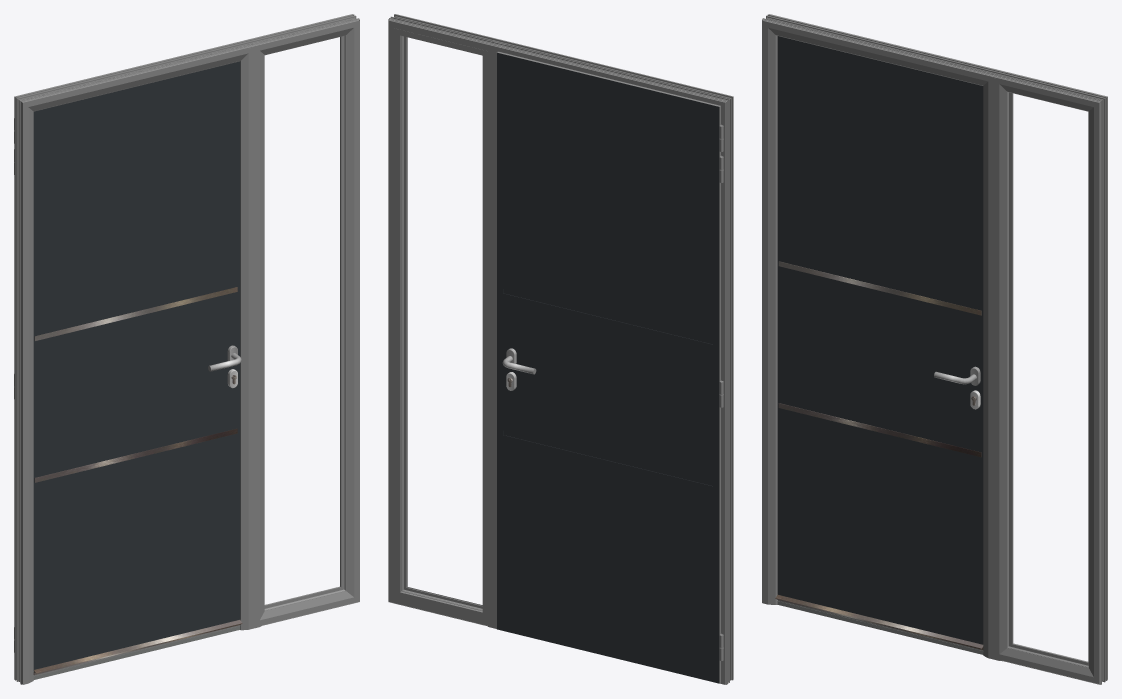
3 views of the same model, side by side, from view 1: azimuth 30°, elevation 25°; view 2: azimuth 150°, elevation 25°; view 3: azimuth 330°, elevation 25° (orthographic).
Visible parts, largest first — view 1: bloco_082, Rectangle002, Line004, Object, Object001, alunox001, Line005, Rectangle005, Rectangle003; view 2: bloco_082, Rectangle002, Rectangle003, Line004, Object001, Rectangle004, Object; view 3: bloco_082, Rectangle002, Line004, Object001, alunox001, Object, Line005, Rectangle003, Rectangle005.
Part boxes in pixels (box(x1,y1,x2,y2)): bloco_082: box(33, 61, 240, 671); Rectangle002: box(14, 14, 359, 684); Line004: box(240, 46, 264, 630); Object: box(33, 35, 346, 680); Object001: box(264, 36, 344, 608); alunox001: box(34, 287, 237, 482); Line005: box(33, 620, 242, 674); Rectangle005: box(33, 625, 240, 679); Rectangle003: box(264, 37, 340, 605); bloco_082: box(497, 52, 719, 683); Rectangle002: box(388, 14, 733, 684); Rectangle003: box(394, 28, 487, 619); Line004: box(488, 41, 504, 628); Object001: box(401, 36, 482, 610); Rectangle004: box(496, 51, 720, 683); Object: box(404, 36, 482, 608); bloco_082: box(777, 36, 983, 644); Rectangle002: box(762, 14, 1107, 684); Line004: box(983, 77, 1007, 661); Object001: box(1007, 92, 1088, 665); alunox001: box(778, 261, 981, 457); Object: box(776, 35, 1088, 667); Line005: box(775, 595, 983, 649); Rectangle003: box(1012, 93, 1087, 662); Rectangle005: box(777, 600, 983, 654).
Bounding box in the file's own units: 1307 × 2150 × 192.
6 materials, 4 textured.
